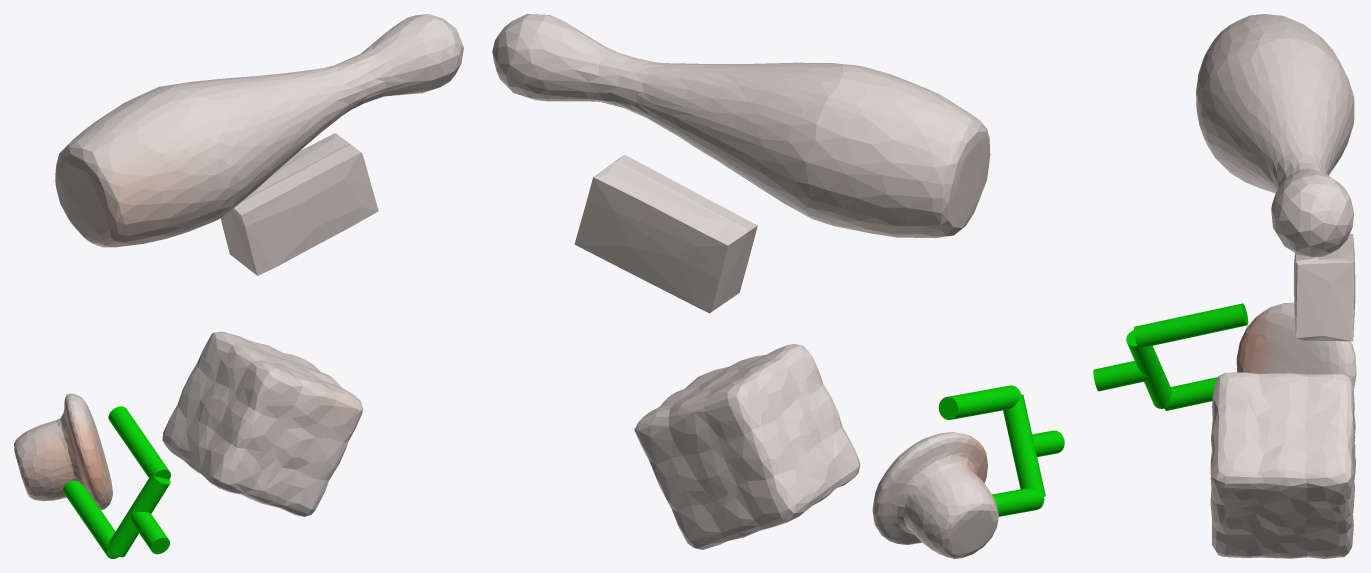
Rendered from round_000_trial_000.obj.
3 views of the same model, side by side, from view 1: azimuth 30°, elevation 25°; view 2: azimuth 150°, elevation 25°; view 3: azimuth 270°, elevation 25° (orthographic). The views are drawn at different scales.
Visible parts, largest first — view 1: geometry_0, geometry_1; view 2: geometry_0, geometry_1; view 3: geometry_0, geometry_1.
Part boxes in pixels (left/top/right/bottom): geometry_0: left=14, top=14, right=463, bottom=516; geometry_1: left=63, top=406, right=170, bottom=558; geometry_0: left=492, top=14, right=998, bottom=558; geometry_1: left=938, top=385, right=1064, bottom=516; geometry_0: left=1196, top=14, right=1356, bottom=558; geometry_1: left=1093, top=303, right=1248, bottom=410.
Bounding box in the file's own units: 0.2446 × 0.2285 × 0.117.
